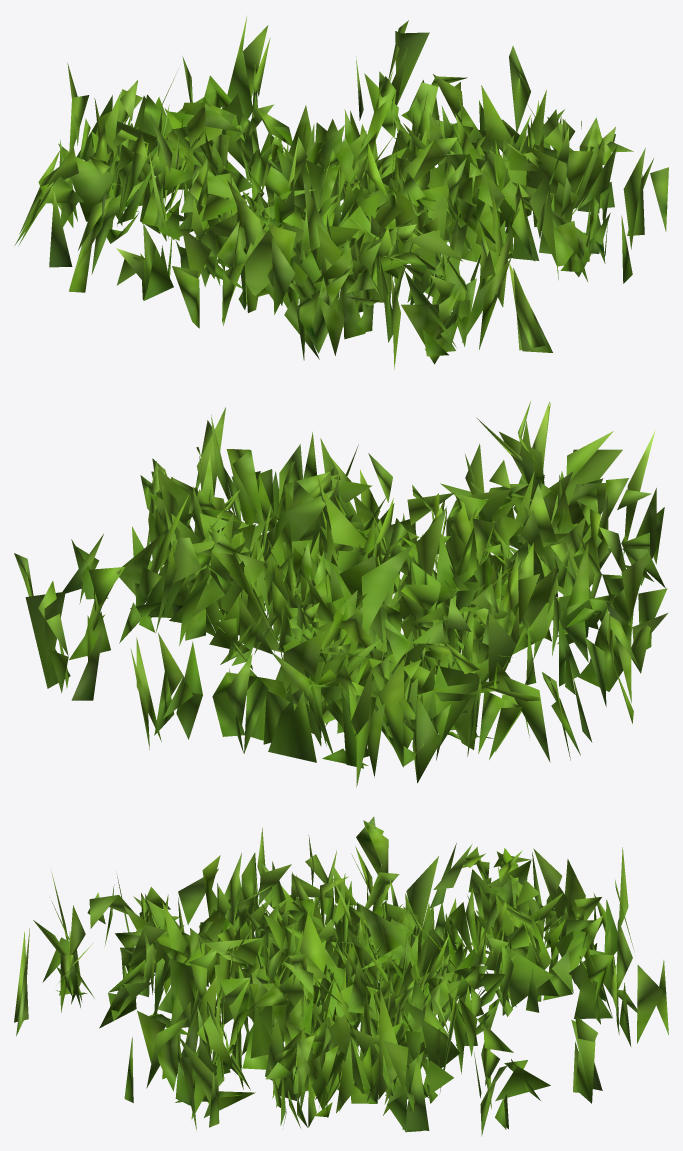
The model's file is grass-tuft.glb.
The picture shows the model from 3 angles, top to bottom: view 1: azimuth 30°, elevation 25°; view 2: azimuth 150°, elevation 25°; view 3: azimuth 270°, elevation 25°; orthographic projection. The views are drawn at different scales.
Parts seen in each view (by area): view 1: Mesh_0; view 2: Mesh_0; view 3: Mesh_0.
Boxes of the visible parts, box(x1,y1,x2,y2) form: Mesh_0: box(14, 16, 668, 369); Mesh_0: box(14, 401, 668, 787); Mesh_0: box(14, 817, 668, 1136).
Size of the model in its own units: 1.88 by 0.5164 by 2.12.
1 material, 1 textured.
